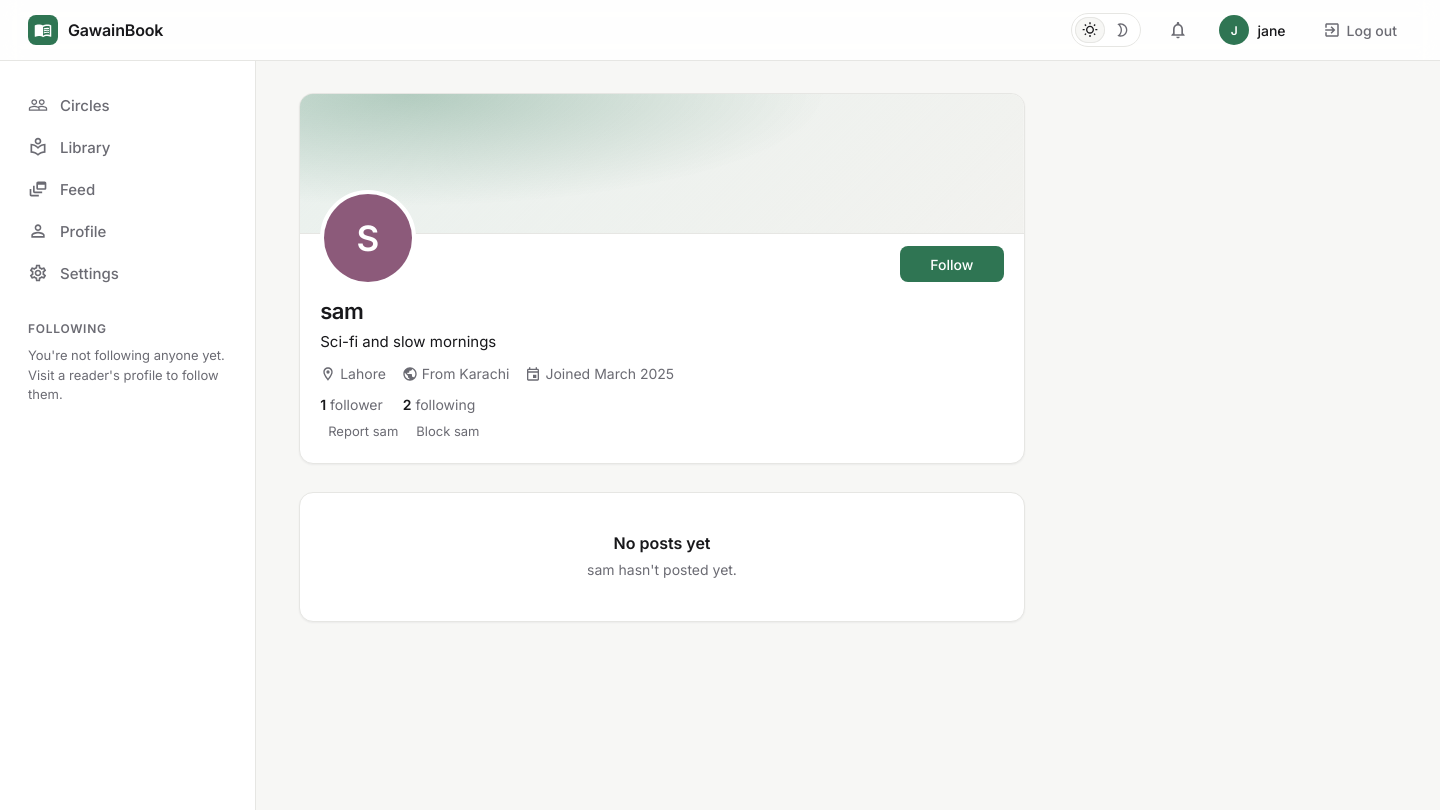
a failed follow shows the error and changes nothing
Step 1. Click the button "Follow" → (952, 264), box [900, 246, 1004, 282]
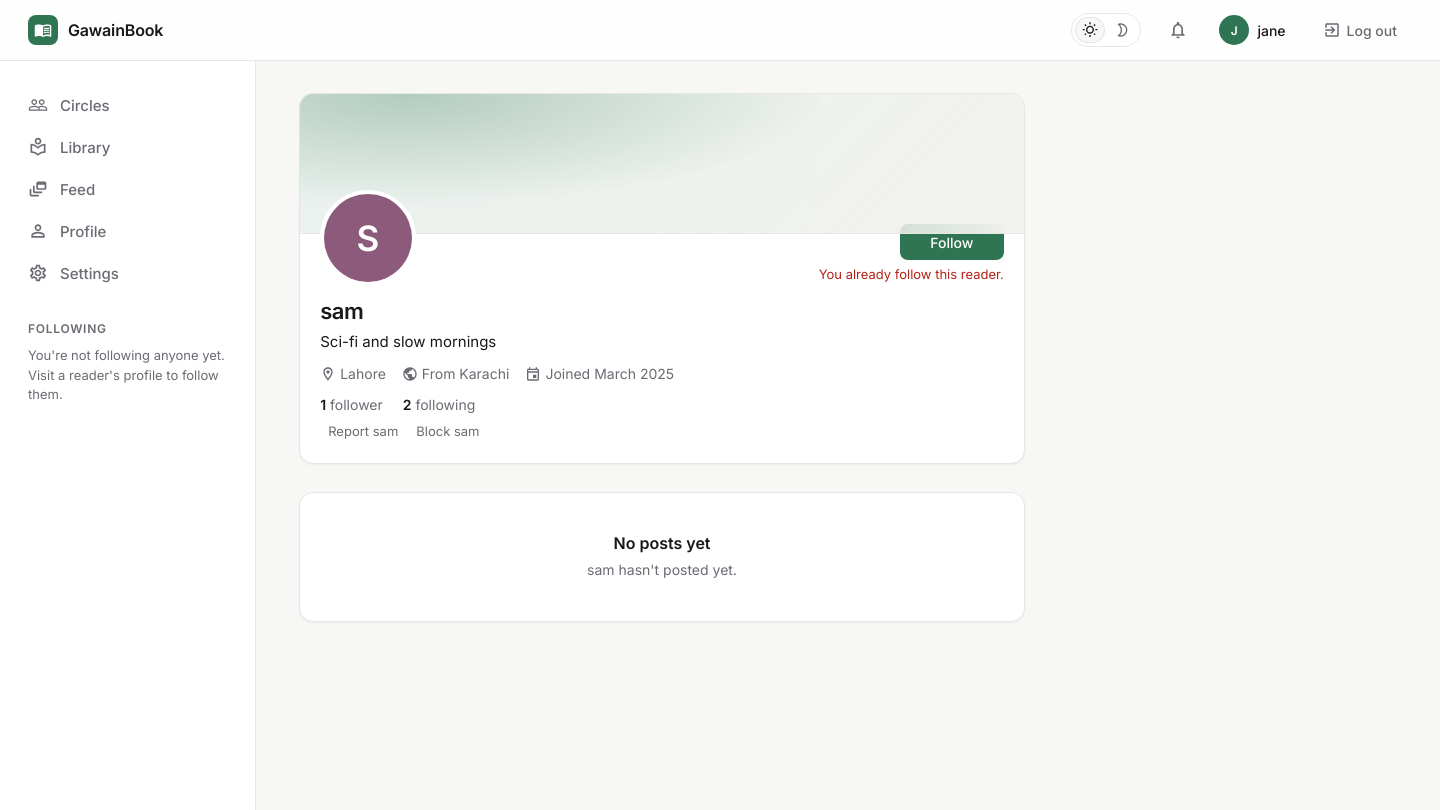
Expected: the text "1 follower" is shown, [320, 396, 383, 413]
Expected: the message reads "You already follow this reader.", [819, 266, 1004, 282]
